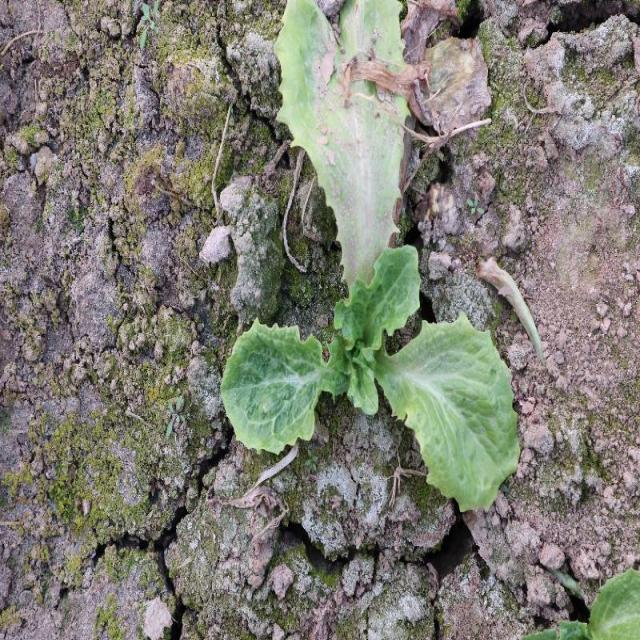crop: (218, 0, 522, 514)
